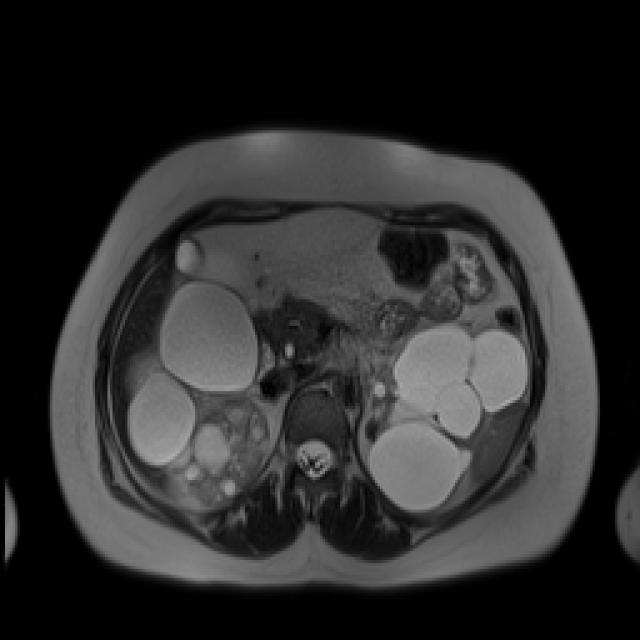sag: (125, 279, 273, 507)
sol: (367, 319, 530, 512)
